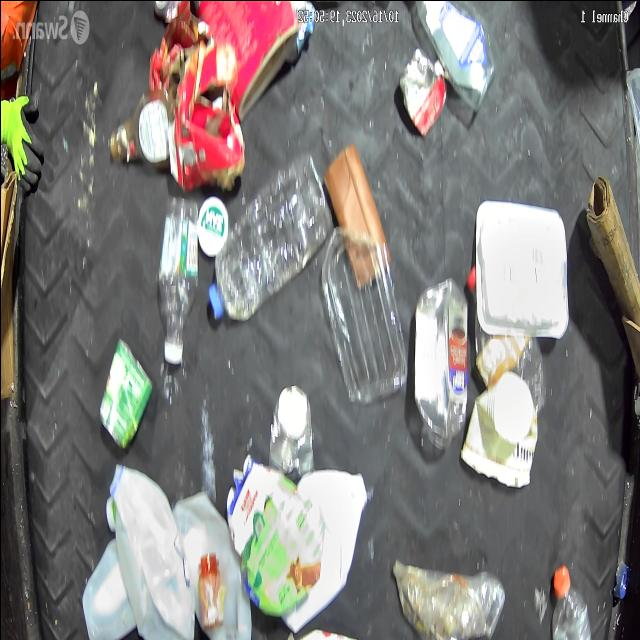can: (92, 335, 152, 447), (264, 378, 318, 475), (398, 50, 449, 134)
milk_jug: (100, 468, 192, 640), (282, 466, 371, 636), (170, 492, 254, 640)
non_white_jug: (223, 460, 325, 624)
plastic_bottle: (206, 150, 332, 327), (153, 192, 198, 380), (546, 562, 590, 640)
